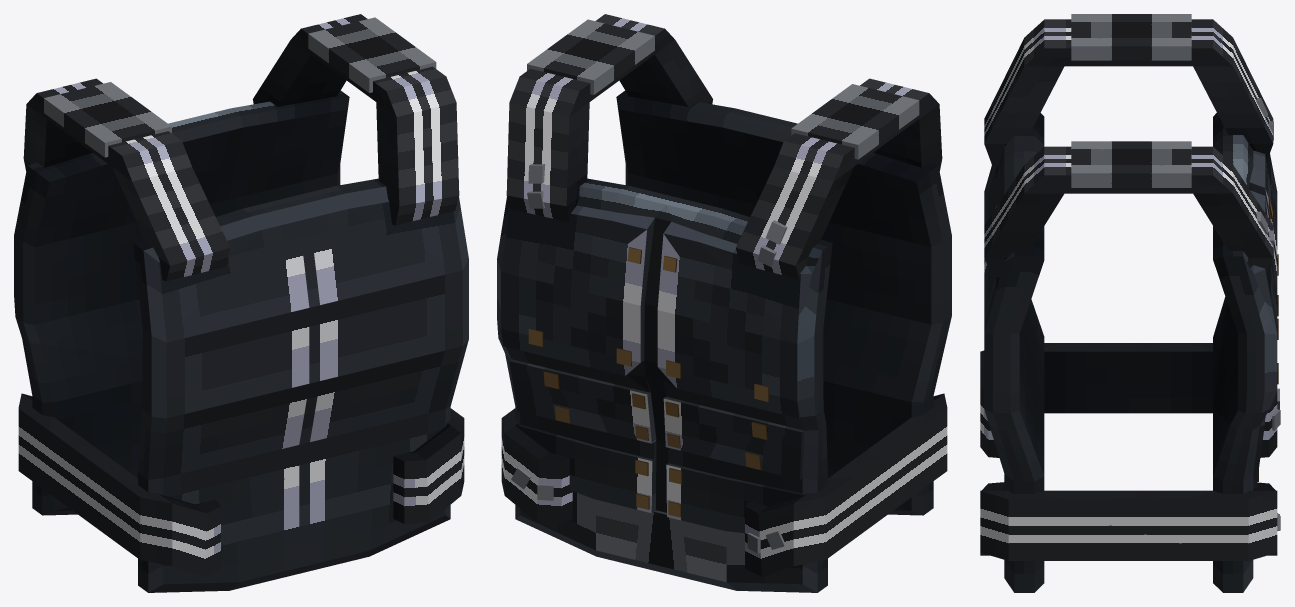
File: metal_chestplate_training.glb
The picture shows the model from 3 angles, left to right: view 1: azimuth 30°, elevation 25°; view 2: azimuth 150°, elevation 25°; view 3: azimuth 270°, elevation 25°; orthographic projection.
Visible parts, largest first — view 1: body; view 2: body; view 3: body.
Boxes of the visible parts, bbox=[...] form: body: bbox=[14, 14, 468, 592]; body: bbox=[497, 14, 951, 592]; body: bbox=[980, 14, 1280, 592].
Size of the model in its own units: 0.5875 by 0.7625 by 0.4678.
Materials: 1 (1 with a texture image).
